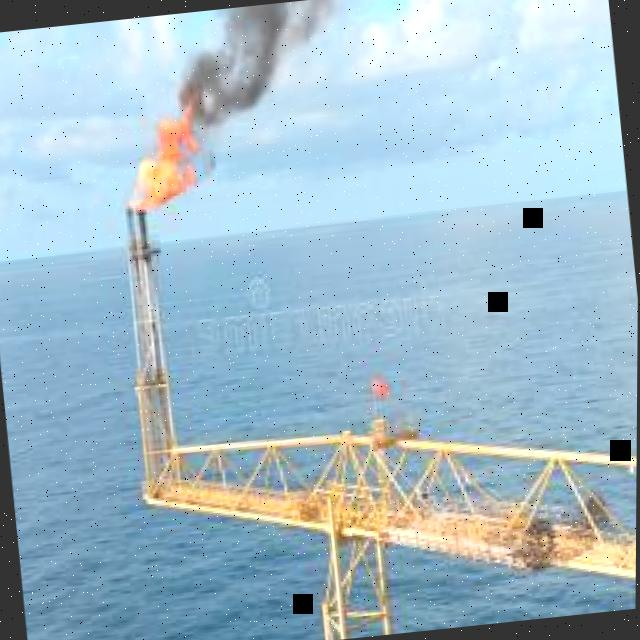fire: (125, 100, 199, 214)
smoke: (174, 0, 350, 182)
